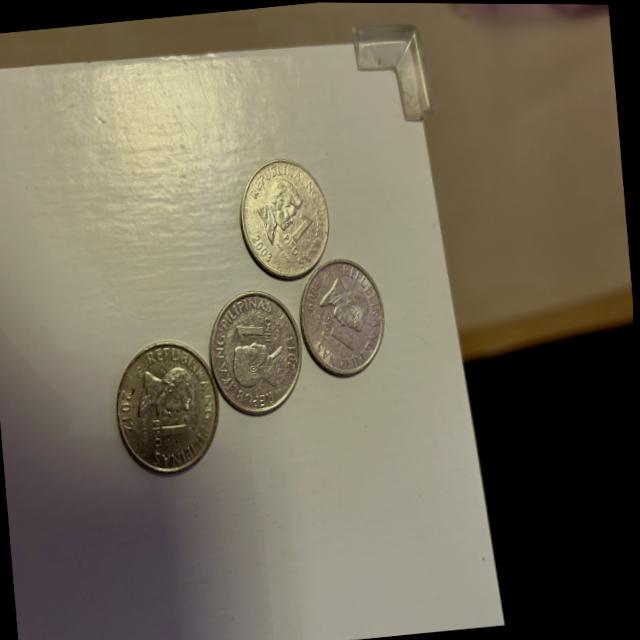1_Old_Front: (316, 312, 364, 363), (226, 314, 278, 355), (148, 404, 197, 447), (274, 214, 317, 260)
